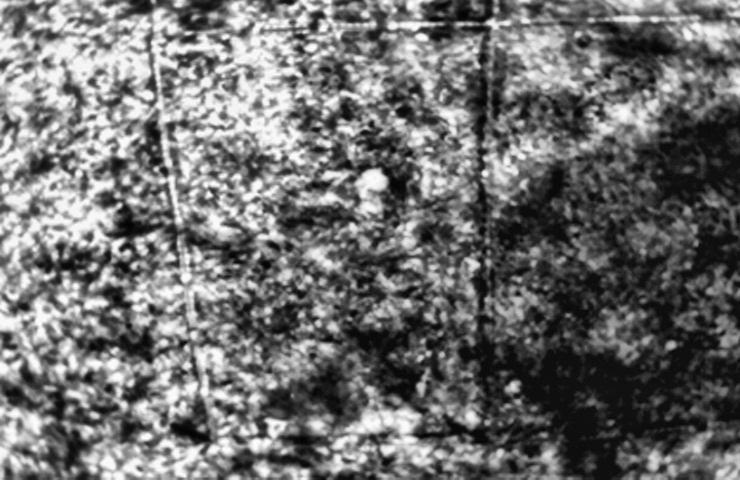landmines: (358, 164, 394, 198)
